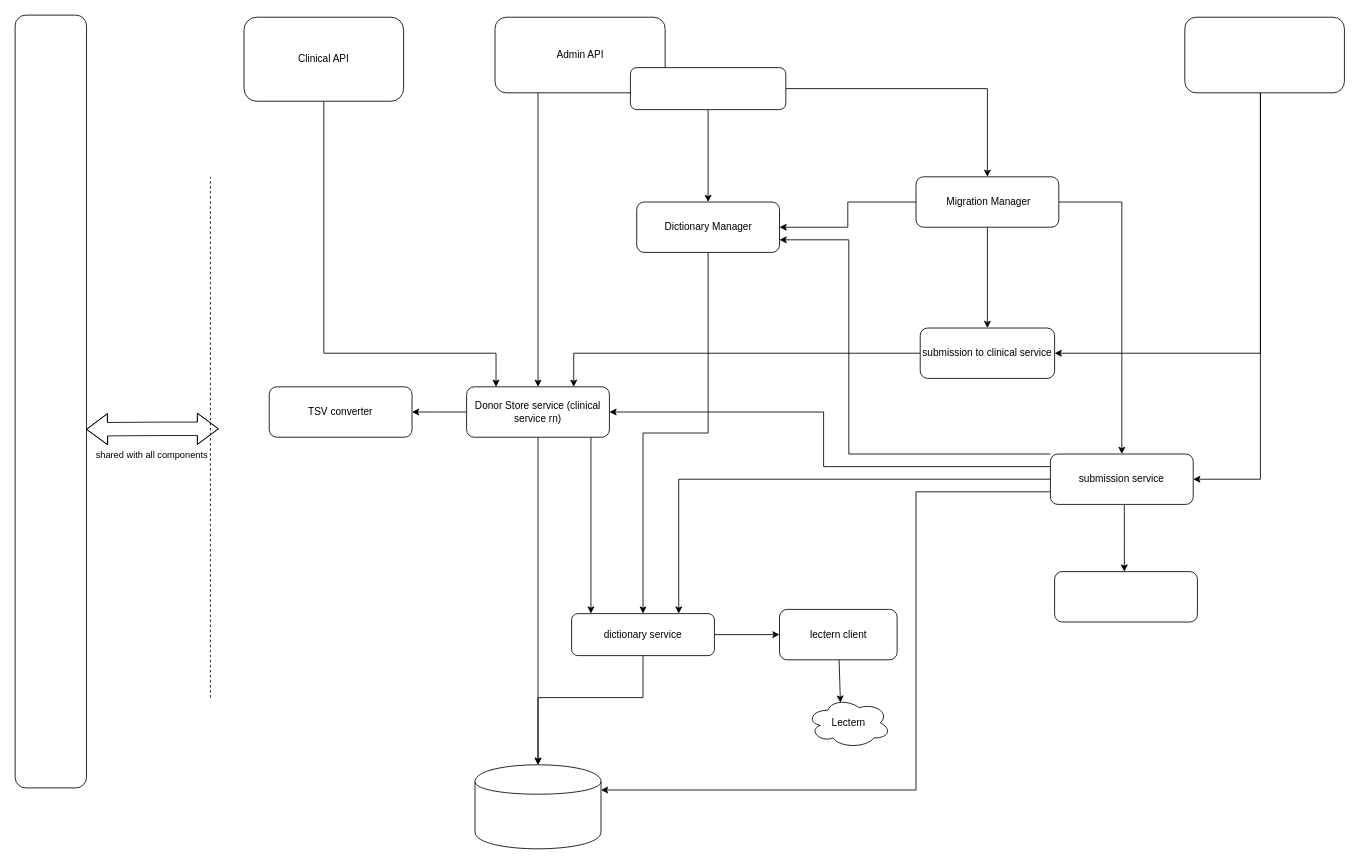
The diagram is 1359 pixels wide and 864 high, and some of its shapes have lost their labels. Each missing label, with the centre of its shape:
"Clinical Db" goes at point (537, 806).
"Common Models / enums / utils/ functions (used to read and write data)" goes at point (50, 401).
"Dictionary APIs" goes at point (708, 88).
"Submitting (write) Data API" goes at point (1264, 54).
"validation service" goes at point (1125, 596).
